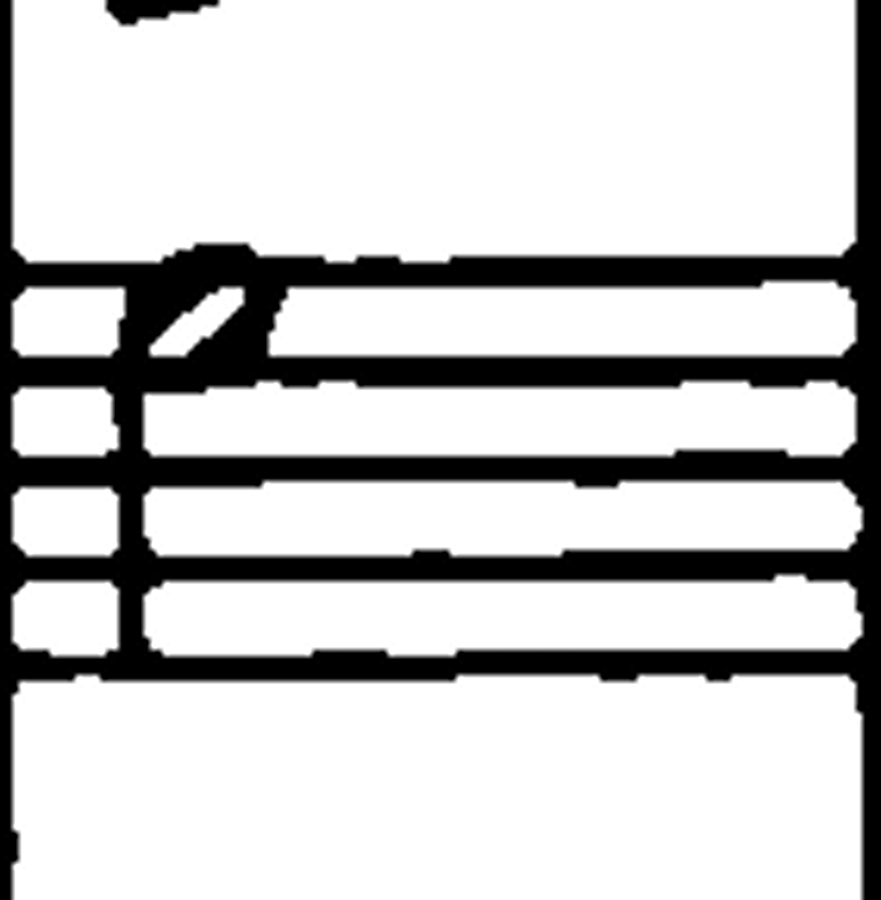noteheadBlackInSpace: (249, 287, 286, 301), (121, 504, 141, 526), (121, 498, 141, 519), (258, 288, 286, 302), (121, 603, 141, 622), (0, 379, 19, 396), (120, 494, 141, 509), (0, 480, 19, 496), (121, 596, 141, 611), (857, 0, 880, 12), (863, 891, 880, 900)
restHBar: (25, 351, 699, 391), (10, 646, 677, 684), (115, 646, 789, 682), (116, 550, 789, 584)
